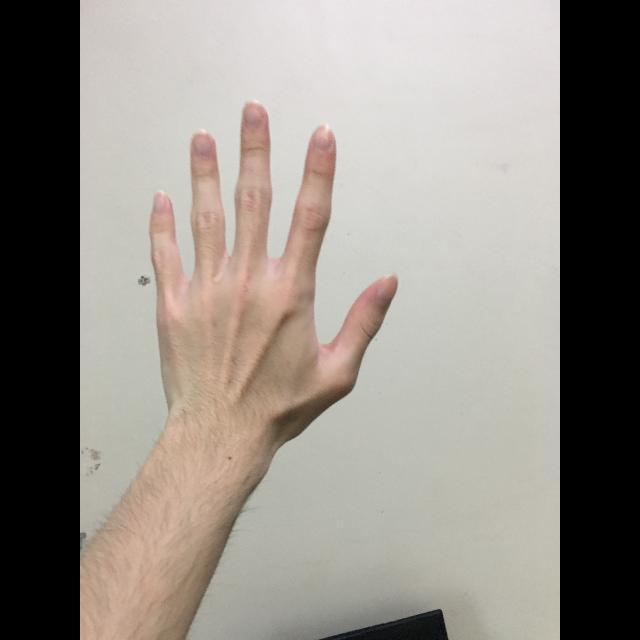bare_hand: (149, 99, 401, 429)
